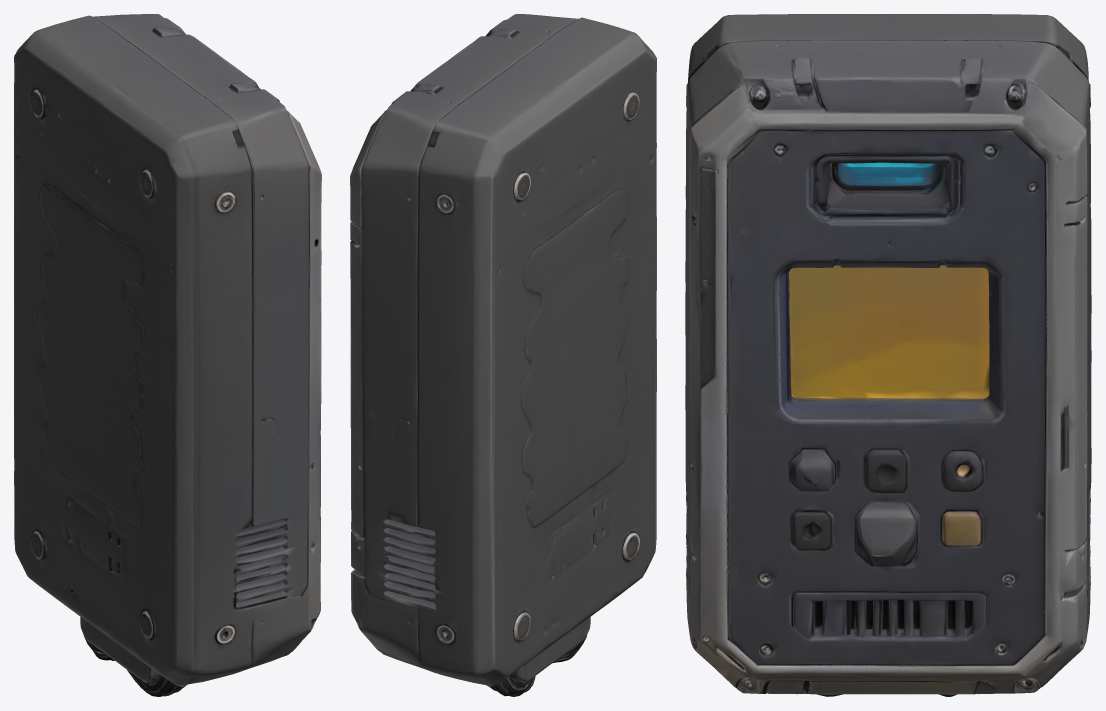
3 views of the same model, side by side, from view 1: azimuth 30°, elevation 25°; view 2: azimuth 150°, elevation 25°; view 3: azimuth 270°, elevation 25° (orthographic). The views are drawn at different scales.
Visible parts, largest first — view 1: tripo_node_df7cbe72-3f48-4f1c-b085-db87e2e7bcb9; view 2: tripo_node_df7cbe72-3f48-4f1c-b085-db87e2e7bcb9; view 3: tripo_node_df7cbe72-3f48-4f1c-b085-db87e2e7bcb9.
Boxes of the visible parts, <box> form: tripo_node_df7cbe72-3f48-4f1c-b085-db87e2e7bcb9: <box>14,14,321,696</box>; tripo_node_df7cbe72-3f48-4f1c-b085-db87e2e7bcb9: <box>350,14,656,696</box>; tripo_node_df7cbe72-3f48-4f1c-b085-db87e2e7bcb9: <box>685,14,1091,696</box>.
Size of the model in its own units: 0.0827 by 0.3 by 0.1642.
1 material, 1 textured.
